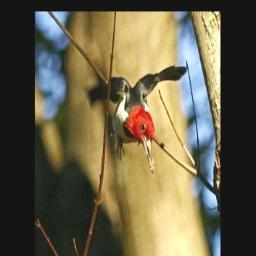Woodpecker: (86, 55, 193, 176)
